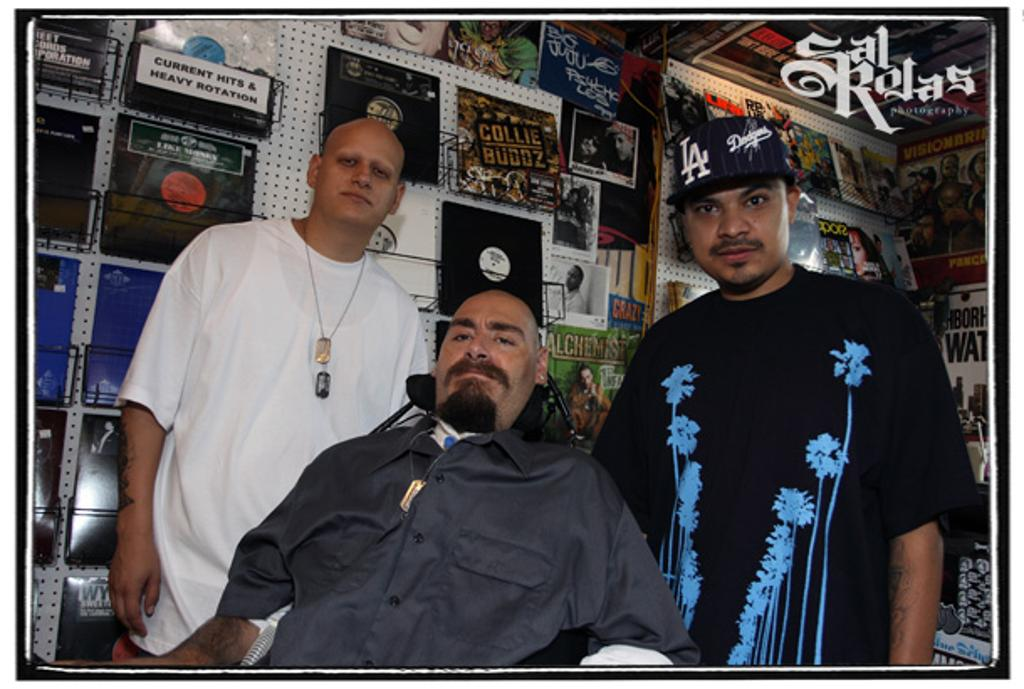face: (685, 159, 788, 284), (435, 301, 535, 423), (319, 122, 404, 223), (837, 232, 864, 276)
